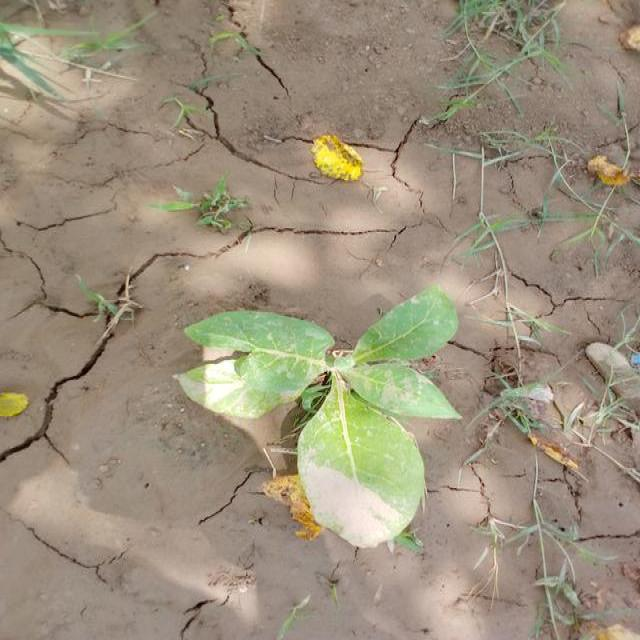crop: (182, 288, 462, 542)
